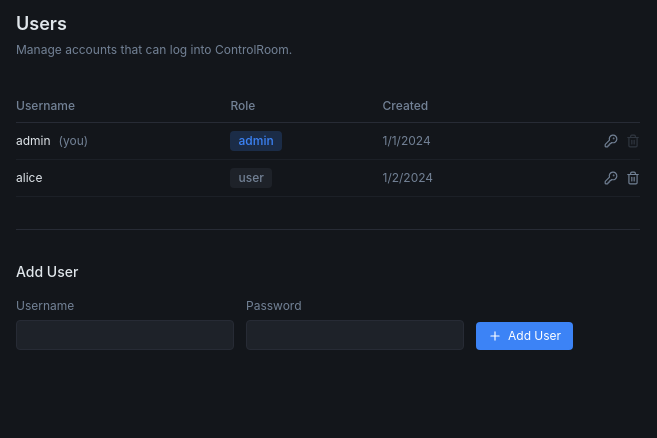
Test: UsersPage › shows error when password change fails
Expected: the text "alice" is shown, [16,160,230,196]
Click the button titled "Change password" in the row of "alice" at (611, 178), box [604,171,618,185]
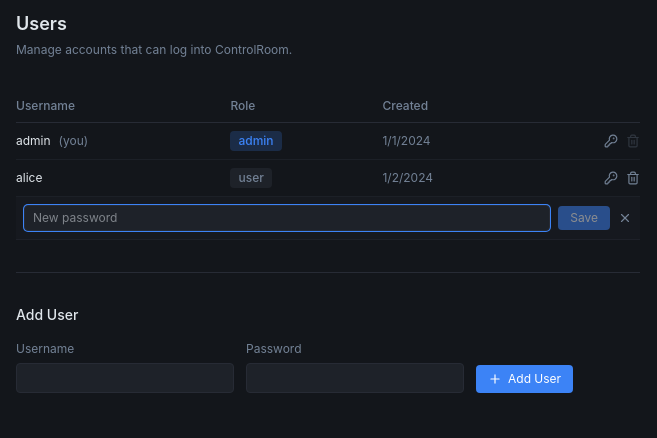
Type "x" into the password field with placeholder "New password" at (287, 218), box [24,205,550,231]
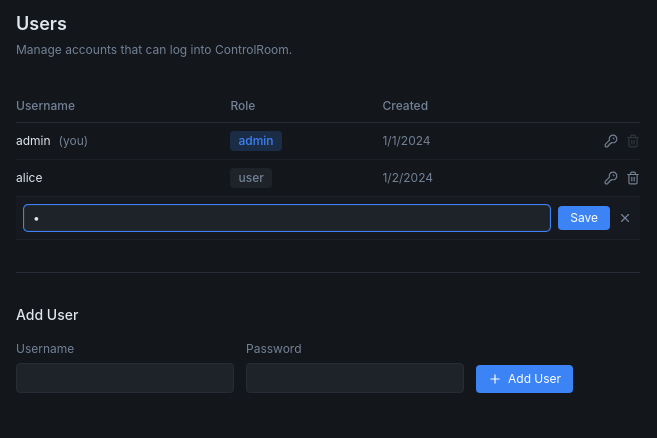
Click the button "Save" at (584, 218), box [558,206,610,230]
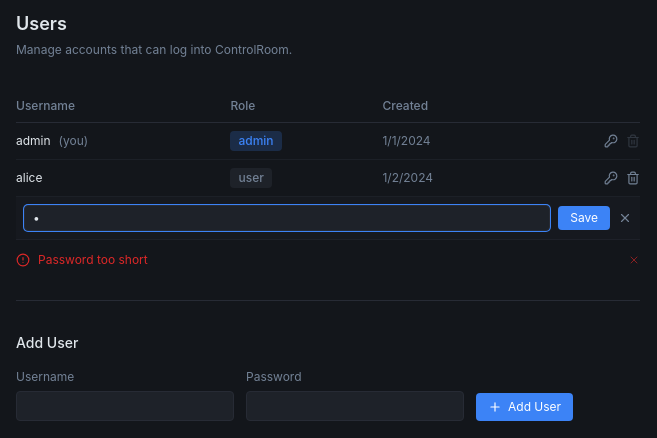
Expected: the text "Password too short" is shown, [38,252,148,267]
